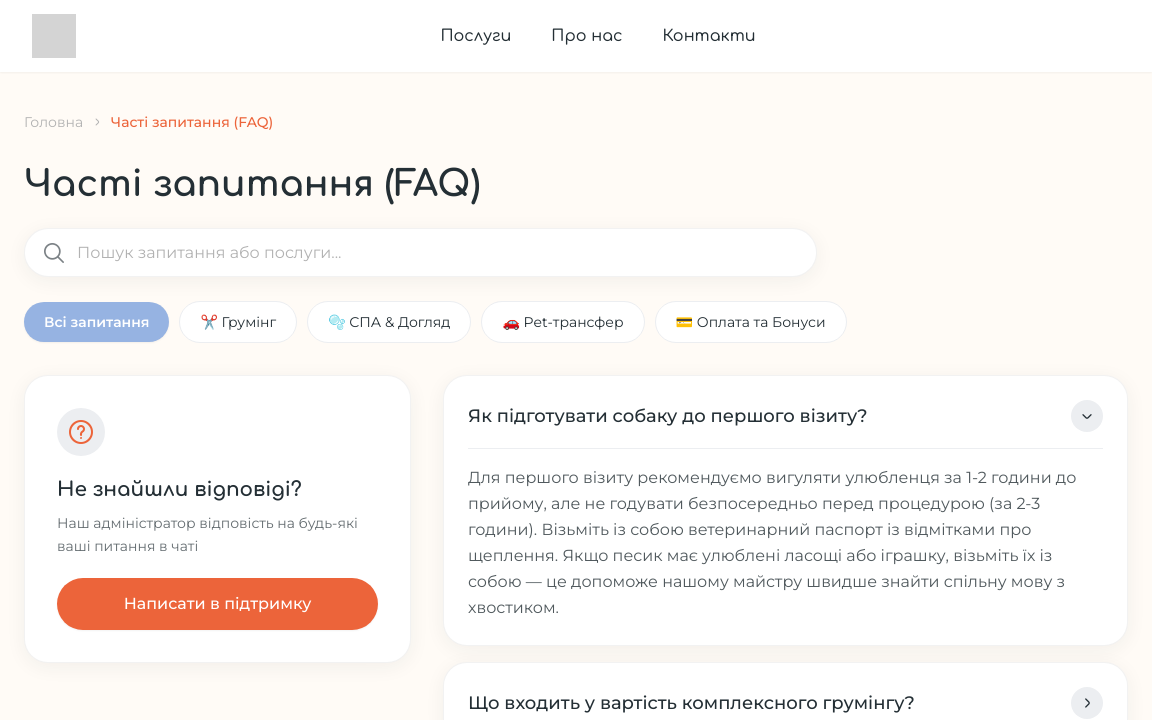
Test: FaqPage › renders empty state when search yields no matches
Type "nonexistent-query-xyz" into the field with placeholder "Пошук запитання або послуги..." at coordinates (420, 252), box [24,228,817,277]
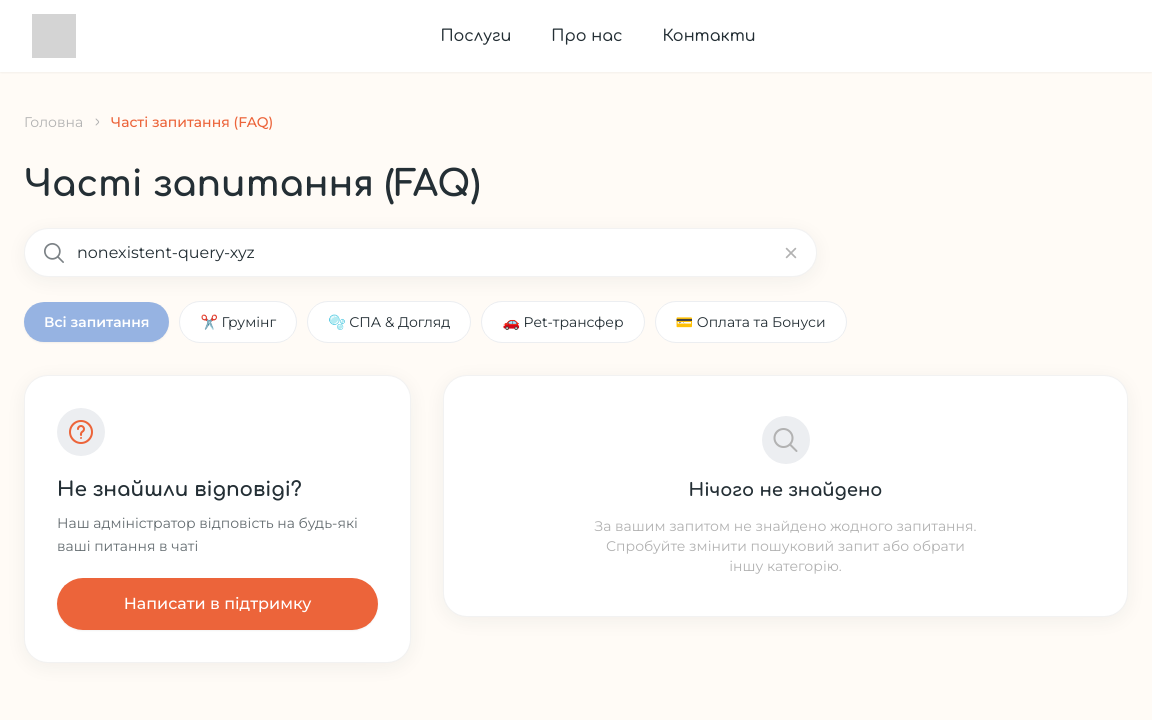
Expected: the element with test id "faq-empty-state" is shown, [443,375,1128,617]
Expected: the heading "Нічого не знайдено" is shown, [688,476,882,504]
